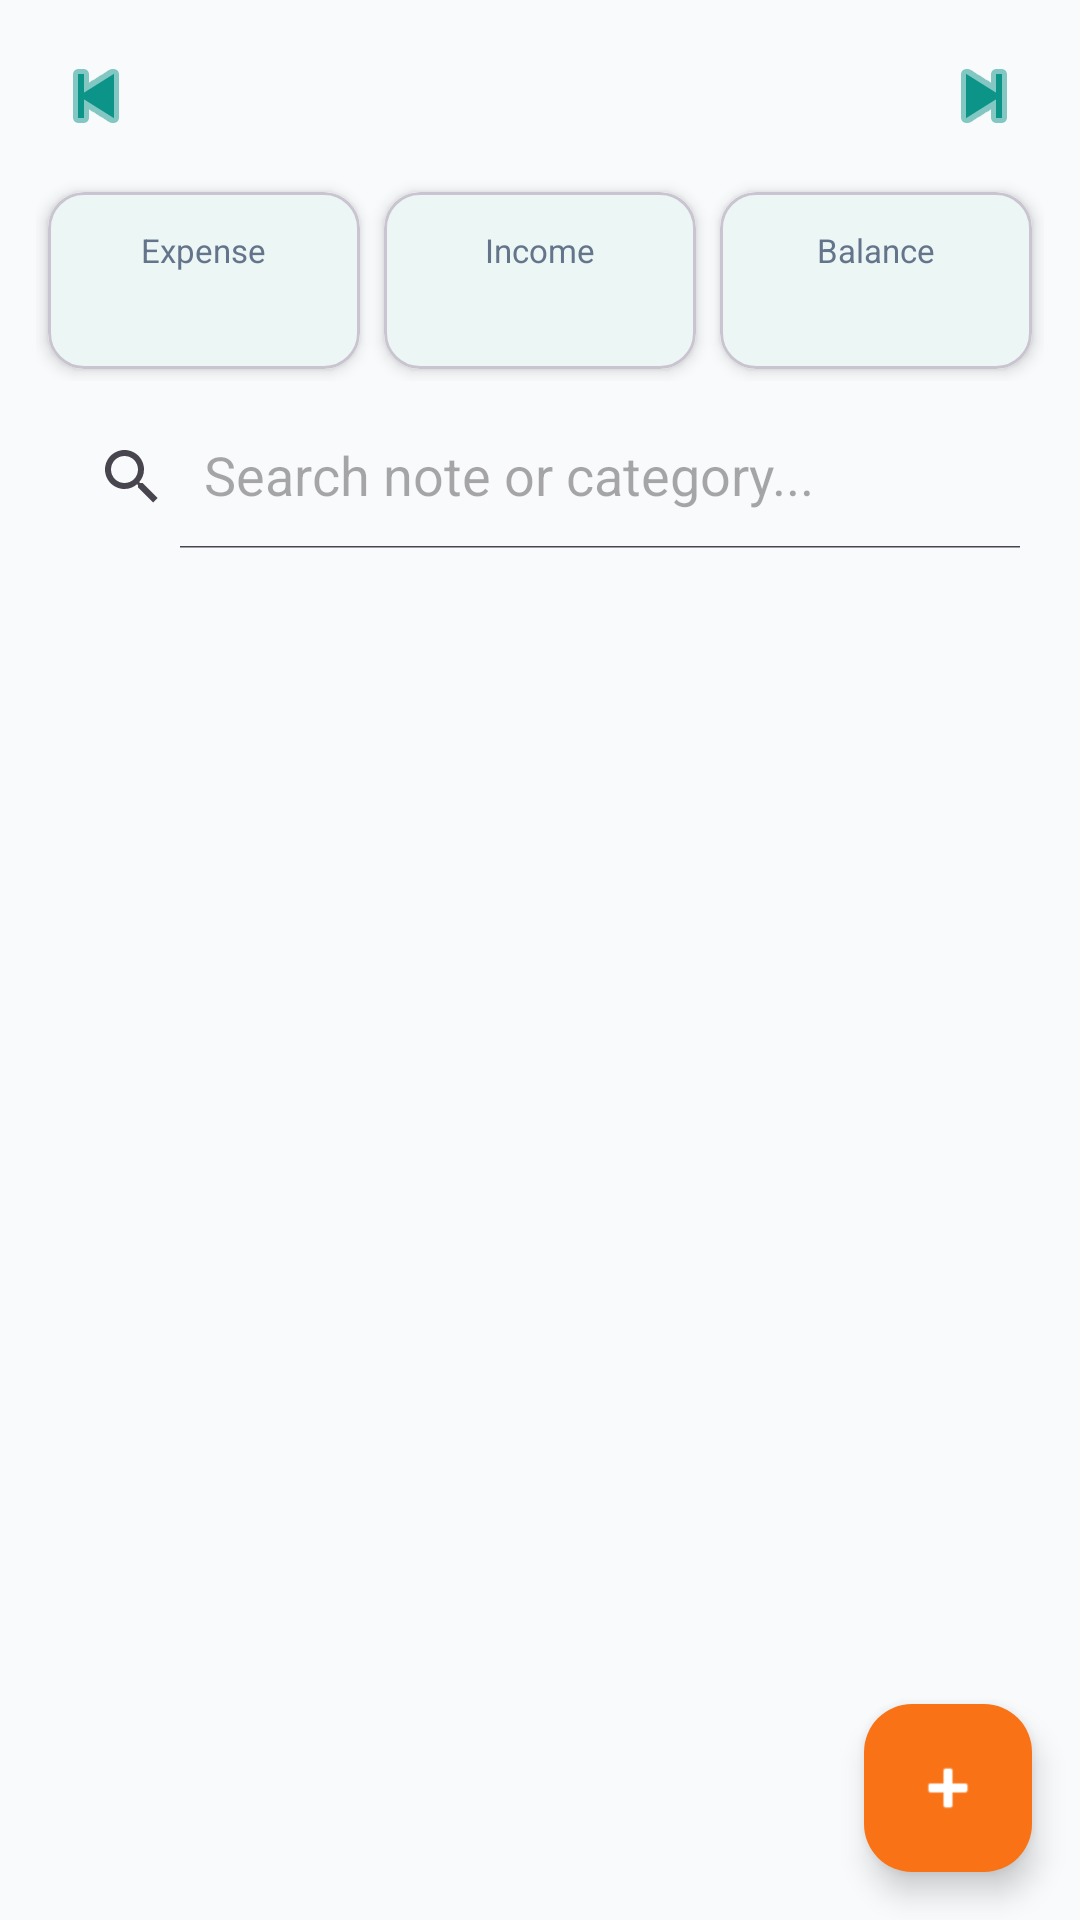

Icons on this 1080x1920 Android screen, each with its box as Rect(x1, y1, x2, y2):
add: Rect(864, 1704, 1032, 1872)
next: Rect(961, 69, 1007, 123)
previous: Rect(73, 69, 119, 123)
